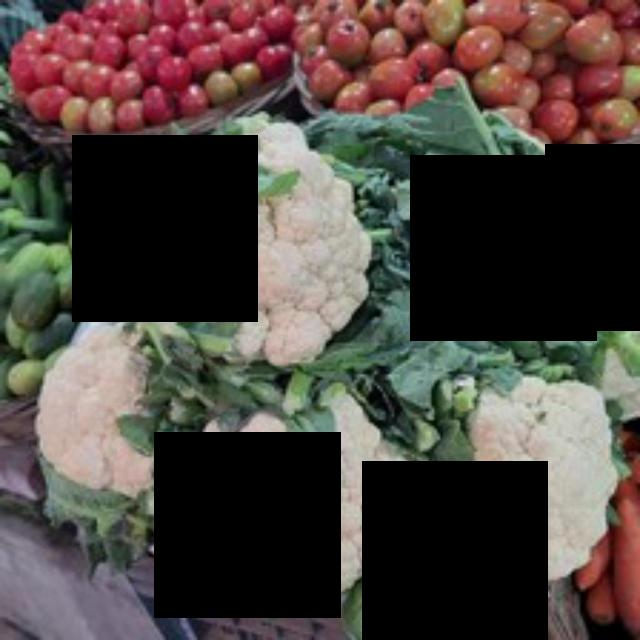cauliflower: (174, 114, 384, 378), (198, 391, 438, 617), (31, 326, 156, 504)
